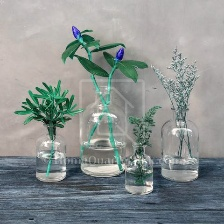bottle: (76, 83, 128, 177), (156, 102, 203, 183), (33, 122, 71, 184), (123, 139, 158, 195)
